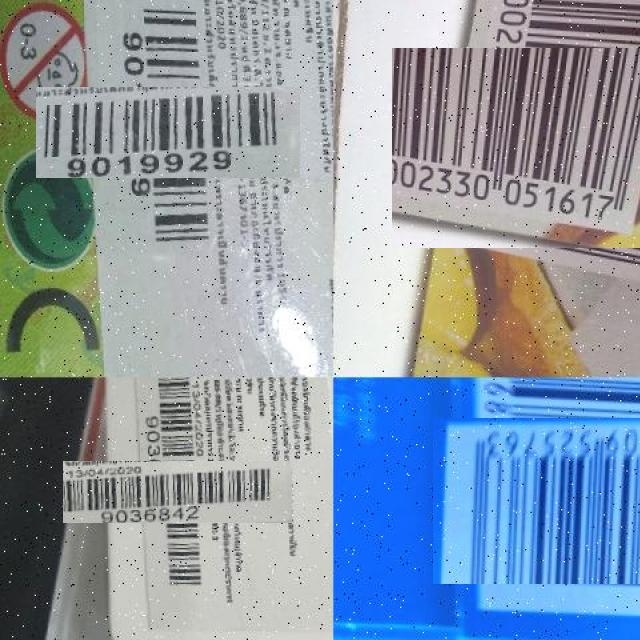Barcode: (416, 24, 640, 272), (454, 397, 640, 603), (80, 44, 258, 222), (105, 419, 251, 565)
